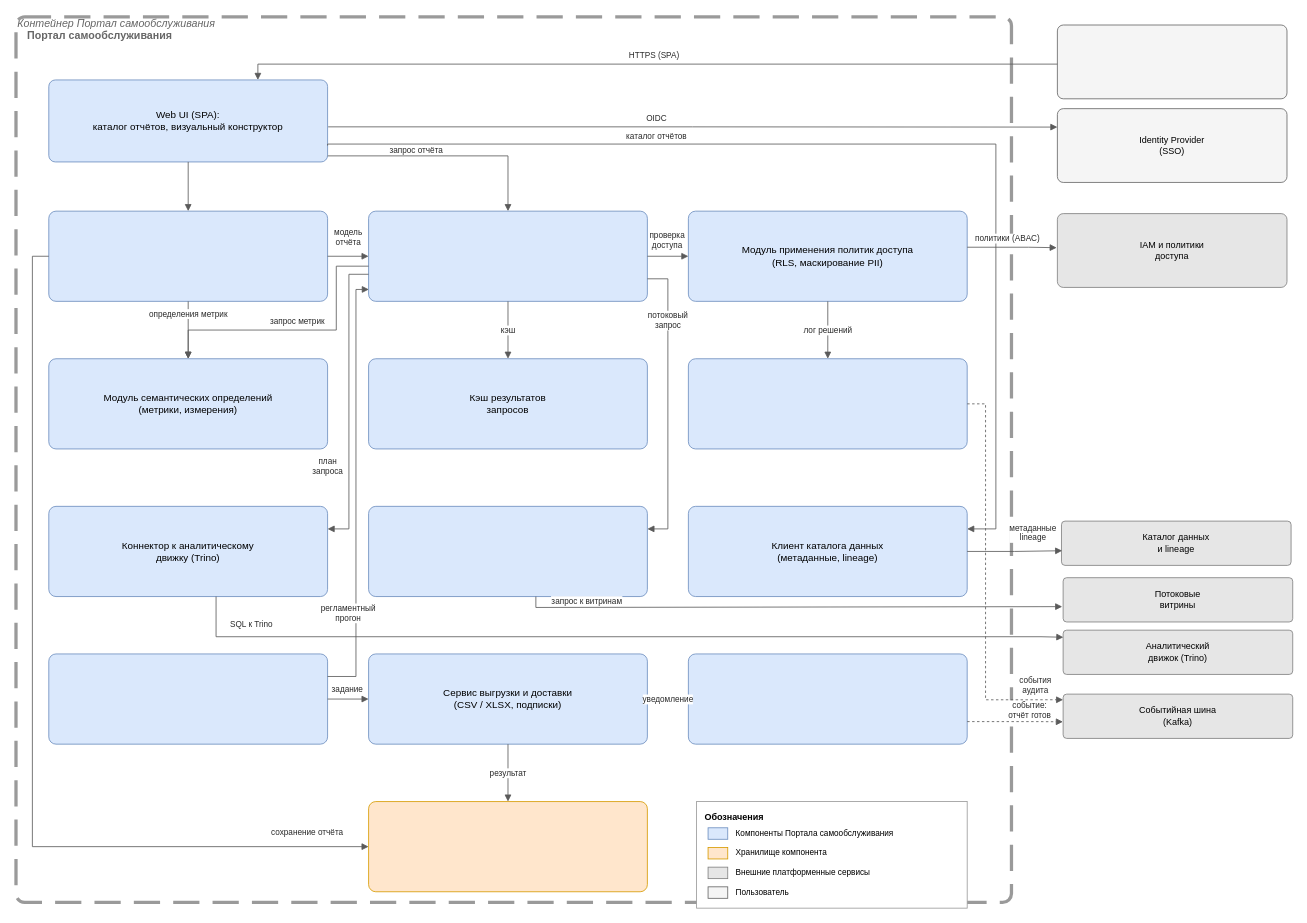
Some shapes in this 1307 by 923 pixel diagram are drawn without their labels. The shapes that lost their labels are listed below. From the top down, each one's centre as x and y in pixels, then its label:
the point at 1172,61: Пользователь портала [Person]
the point at 188,255: Сервис конструктора отчётов (Report Builder)
the point at 507,255: Оркестратор запросов (Query Orchestrator)
the point at 827,403: Аудит-логгер доступа к данным
the point at 507,551: Коннектор к потоковым витринам
the point at 188,698: Планировщик регламентных отчётов
the point at 827,698: Сервис уведомлений
the point at 507,846: Хранилище отчётов и прав (metadata DB)
